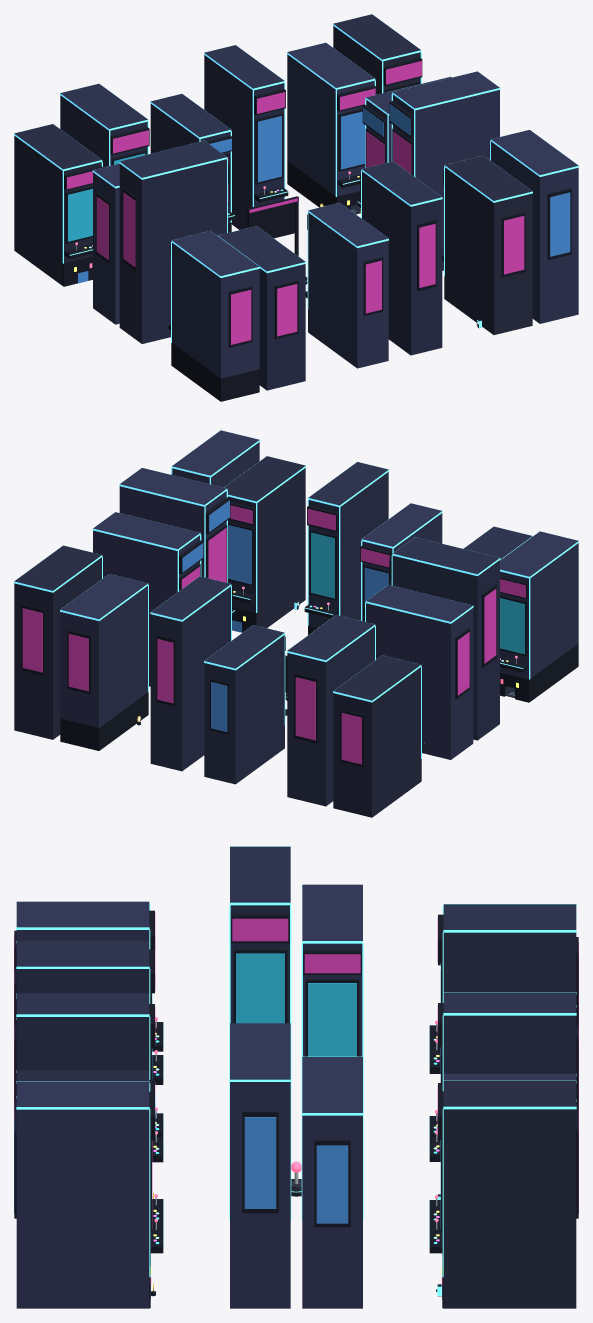
3 views of the same model, one above another, from view 1: azimuth 30°, elevation 25°; view 2: azimuth 150°, elevation 25°; view 3: azimuth 270°, elevation 25° (orthographic). The views are drawn at different scales.
Parts seen in each view (by area): view 1: district_city_arcade.lod1; view 2: district_city_arcade.lod1; view 3: district_city_arcade.lod1.
Boxes of the visible parts, left/top/right/bottom form: district_city_arcade.lod1: left=14, top=14, right=578, bottom=401; district_city_arcade.lod1: left=14, top=430, right=578, bottom=817; district_city_arcade.lod1: left=14, top=846, right=578, bottom=1308.
Size of the model in its own units: 97.9 by 43.81 by 97.9.
